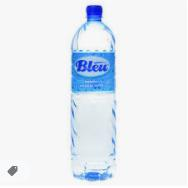plastic_bottle: (66, 4, 121, 183)
